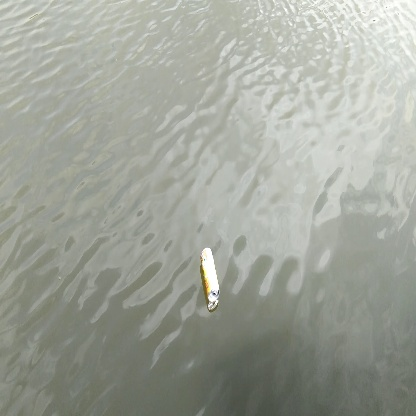bottle: (198, 247, 225, 316)
